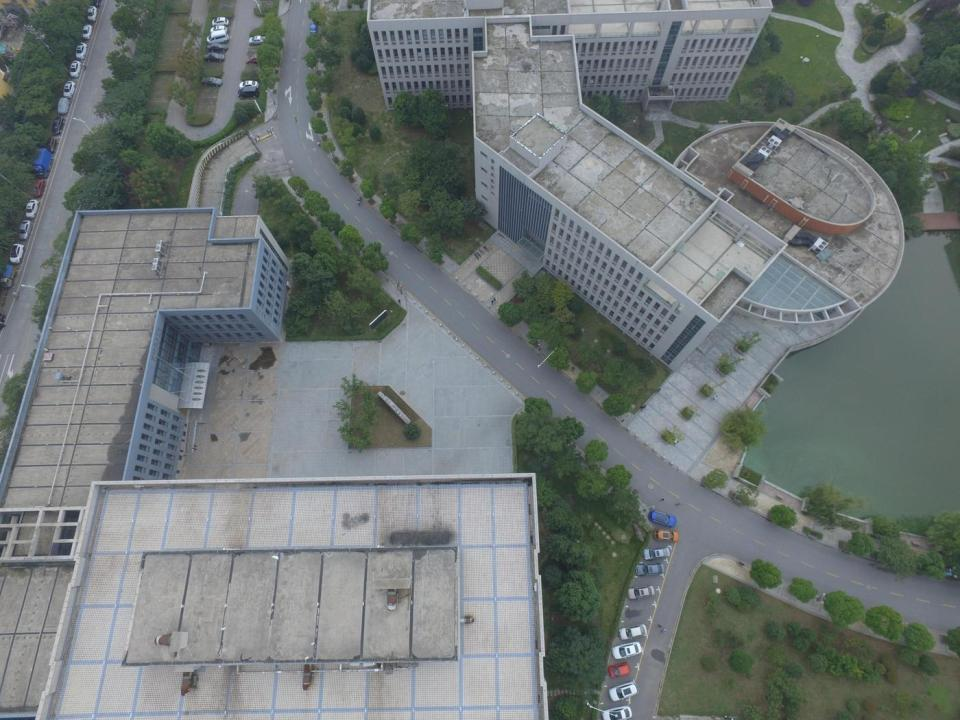car: (608, 681, 638, 701), (611, 641, 642, 659), (648, 509, 677, 528), (618, 624, 648, 640), (602, 705, 632, 720), (627, 585, 655, 599), (608, 662, 631, 678), (653, 529, 679, 543), (642, 547, 670, 560), (9, 243, 26, 264), (635, 563, 664, 575), (18, 219, 33, 241), (31, 179, 46, 197), (25, 200, 39, 219), (200, 76, 223, 87), (63, 80, 76, 99), (206, 42, 228, 53), (75, 42, 88, 60), (204, 52, 225, 63), (44, 137, 58, 153), (52, 117, 64, 135), (57, 98, 70, 114), (86, 5, 98, 22), (70, 61, 82, 78), (246, 54, 266, 64), (238, 80, 258, 90), (249, 35, 268, 45), (211, 17, 229, 27), (82, 24, 93, 40), (210, 25, 228, 33), (309, 20, 318, 33)
truck: (30, 148, 54, 178), (0, 264, 17, 288)
van: (206, 29, 230, 44), (237, 86, 259, 99)
